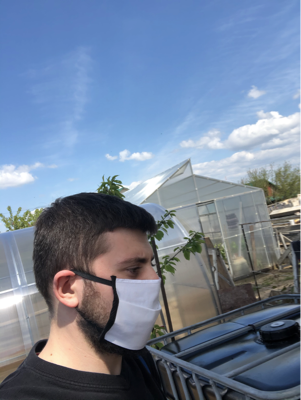with_mask: (101, 251, 162, 355)
